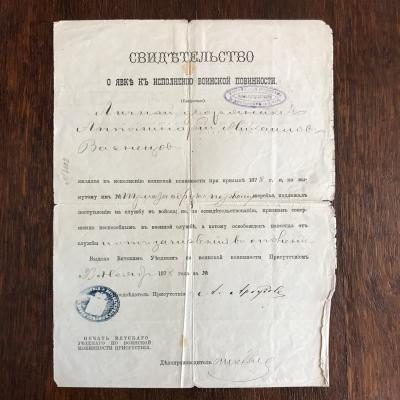document: (51, 19, 337, 391)
